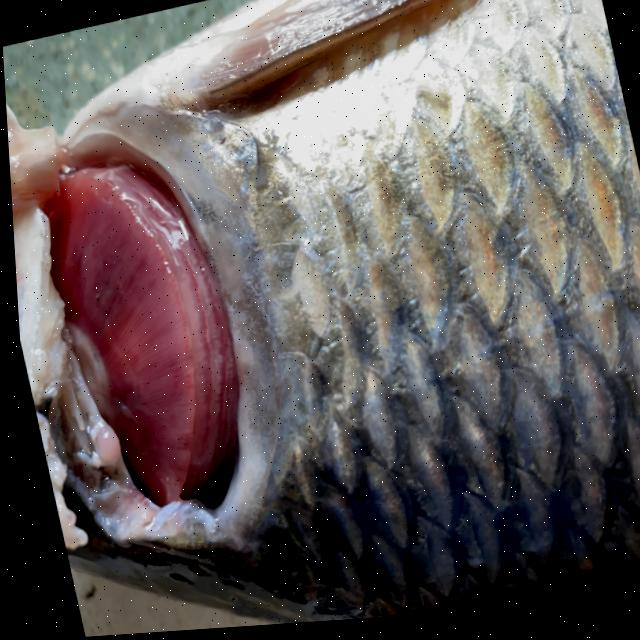Fresh: (5, 96, 281, 579)
